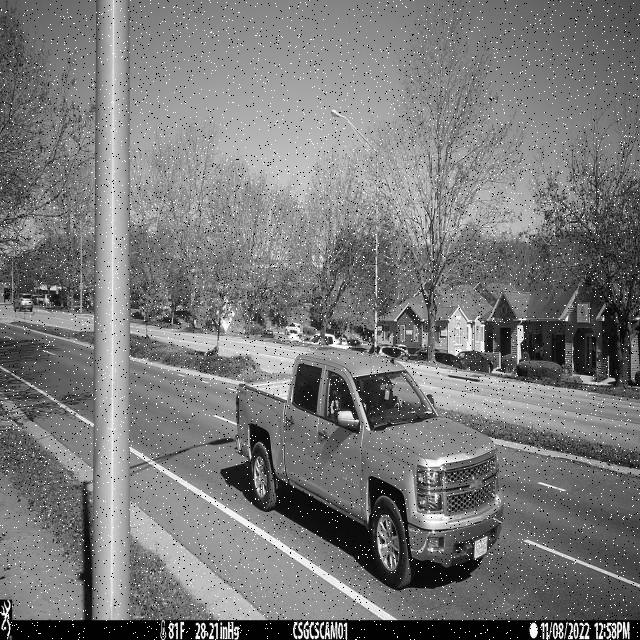Pickup: (235, 350, 504, 591)
